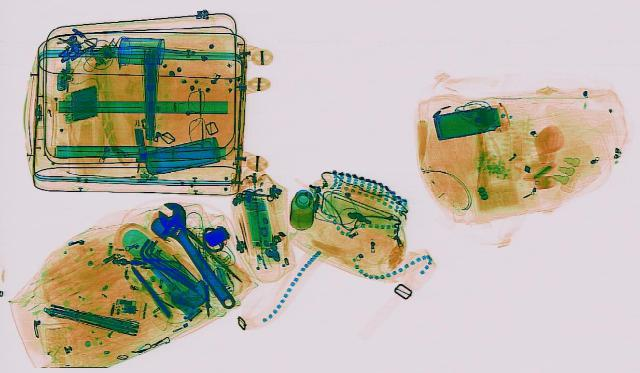Wrench: (134, 198, 256, 311)
